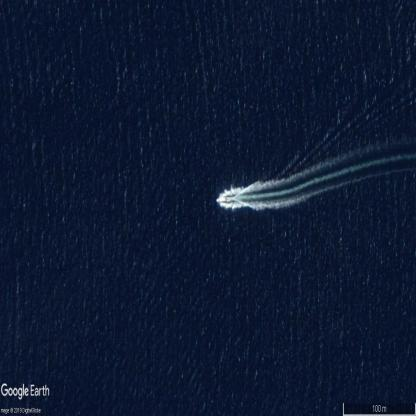ship: (216, 196, 233, 203)
